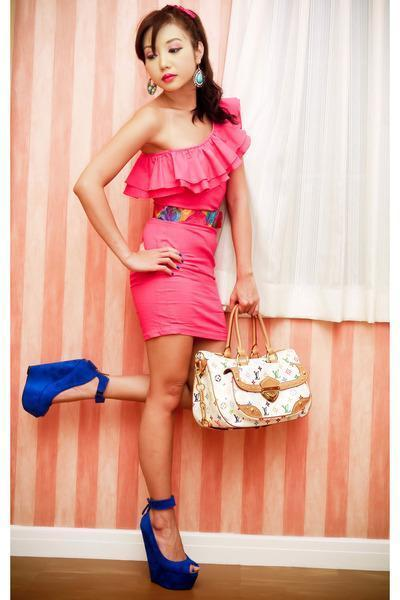bag: (193, 322, 309, 426)
dress: (123, 96, 249, 347)
shoe: (22, 359, 198, 590)
